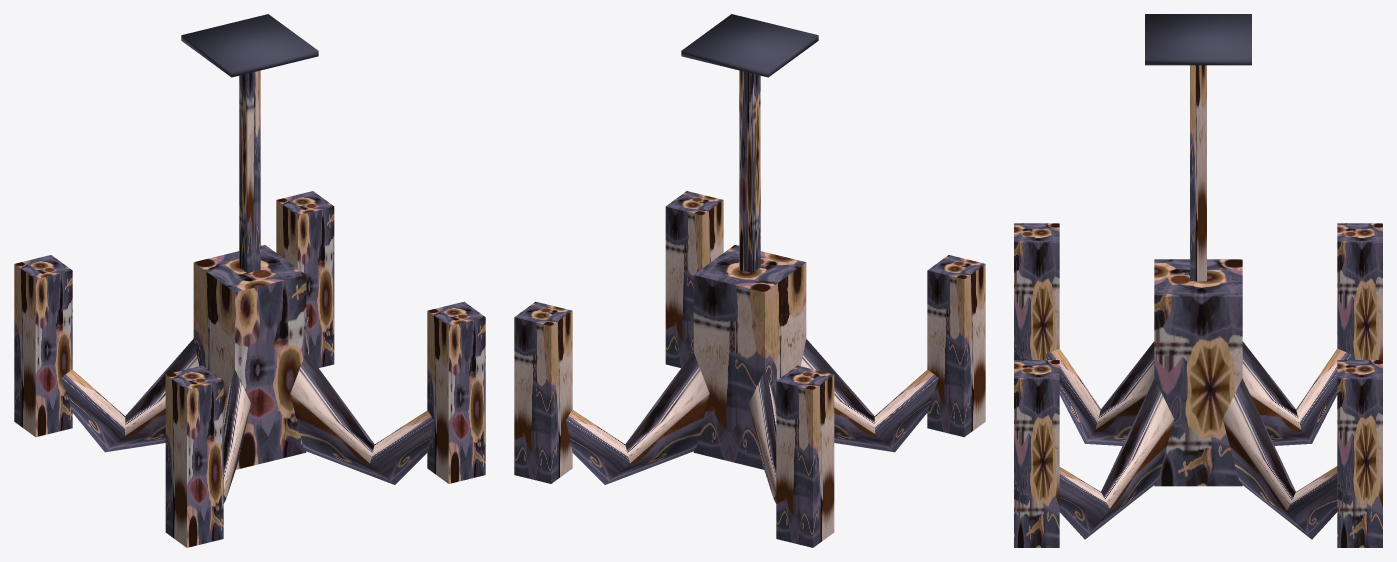
The model's file is sb_obj_DemonsCastle003_chandelier_col.fbx.
The picture shows the model from 3 angles, left to right: view 1: azimuth 30°, elevation 25°; view 2: azimuth 150°, elevation 25°; view 3: azimuth 270°, elevation 25°; orthographic projection. The views are drawn at different scales.
Parts seen in each view (by area): view 1: sb_obj_DemonsCastle003_chandelier_col; view 2: sb_obj_DemonsCastle003_chandelier_col; view 3: sb_obj_DemonsCastle003_chandelier_col.
Boxes of the visible parts, <box> form: sb_obj_DemonsCastle003_chandelier_col: <box>14,14,485,547</box>; sb_obj_DemonsCastle003_chandelier_col: <box>514,14,985,547</box>; sb_obj_DemonsCastle003_chandelier_col: <box>1014,14,1382,547</box>.
Size of the model in its own units: 0.7986 by 1.09 by 0.7986.
